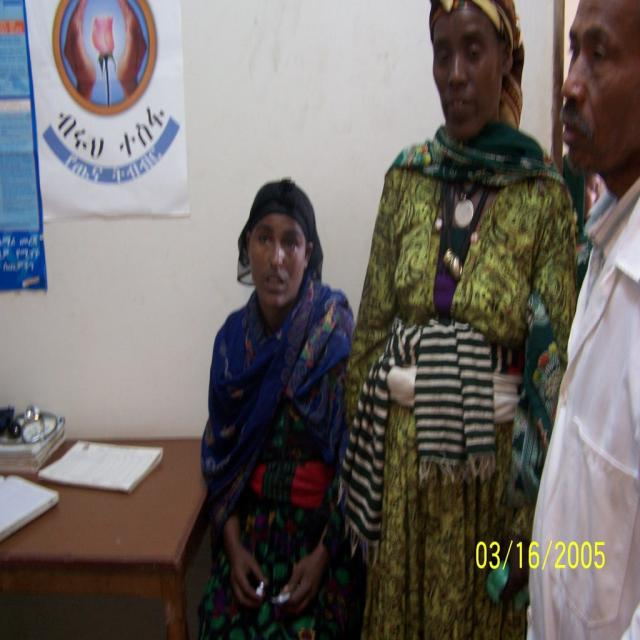desk: (0, 407, 222, 631)
person: (310, 2, 580, 638), (196, 179, 360, 638), (522, 0, 640, 636)
